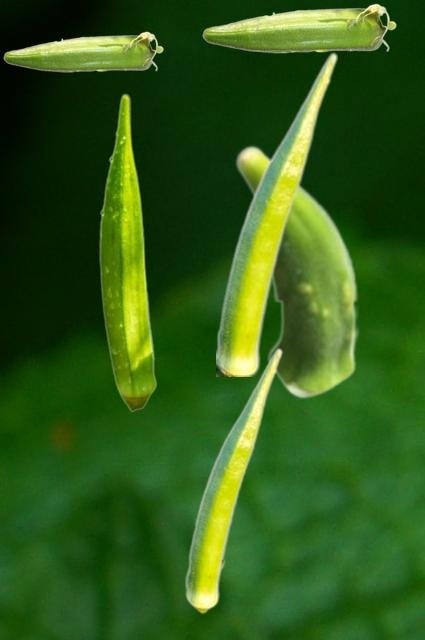okra: (216, 52, 336, 375), (234, 144, 359, 398), (185, 347, 282, 613), (99, 93, 156, 411), (202, 3, 395, 52), (3, 31, 162, 71)
